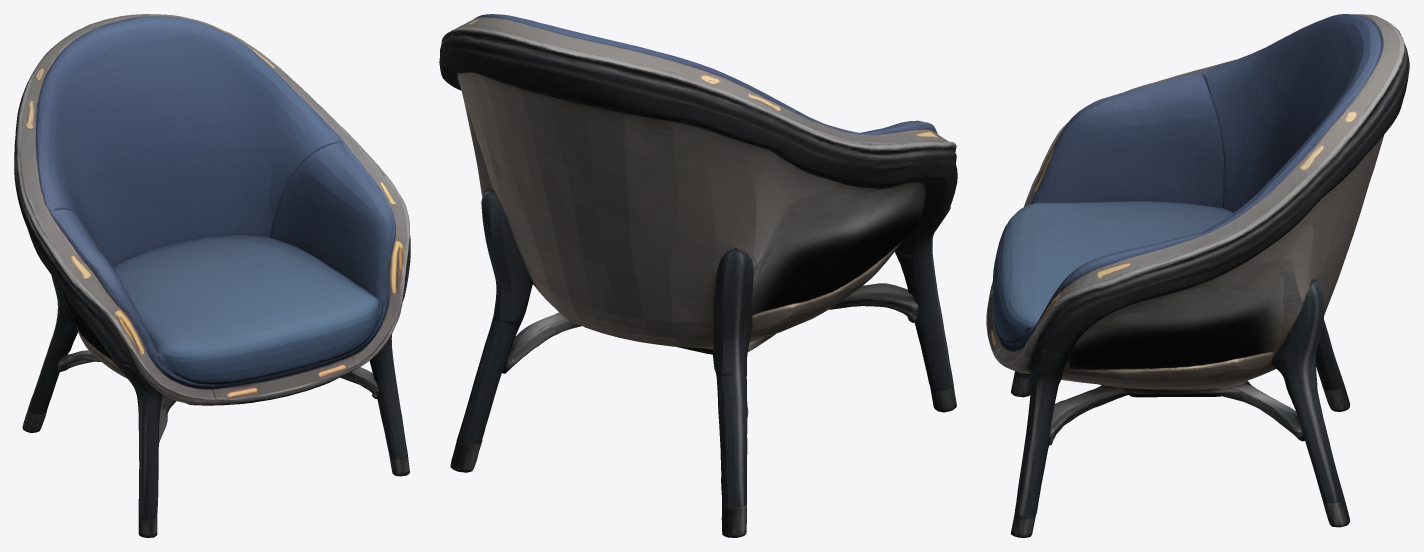
File: lounge_chair.glb
3 renders of one model, left to right at view 1: azimuth 30°, elevation 25°; view 2: azimuth 150°, elevation 25°; view 3: azimuth 270°, elevation 25°, orthographic. The views are drawn at different scales.
Visible parts, largest first — view 1: world; view 2: world; view 3: world.
Part boxes in pixels (x1,y1,x2,y2): world: [14, 14, 410, 537]; world: [439, 14, 957, 537]; world: [986, 14, 1409, 537].
Size of the model in its own units: 0.9487 by 1 by 0.9053.
1 material, 1 textured.
